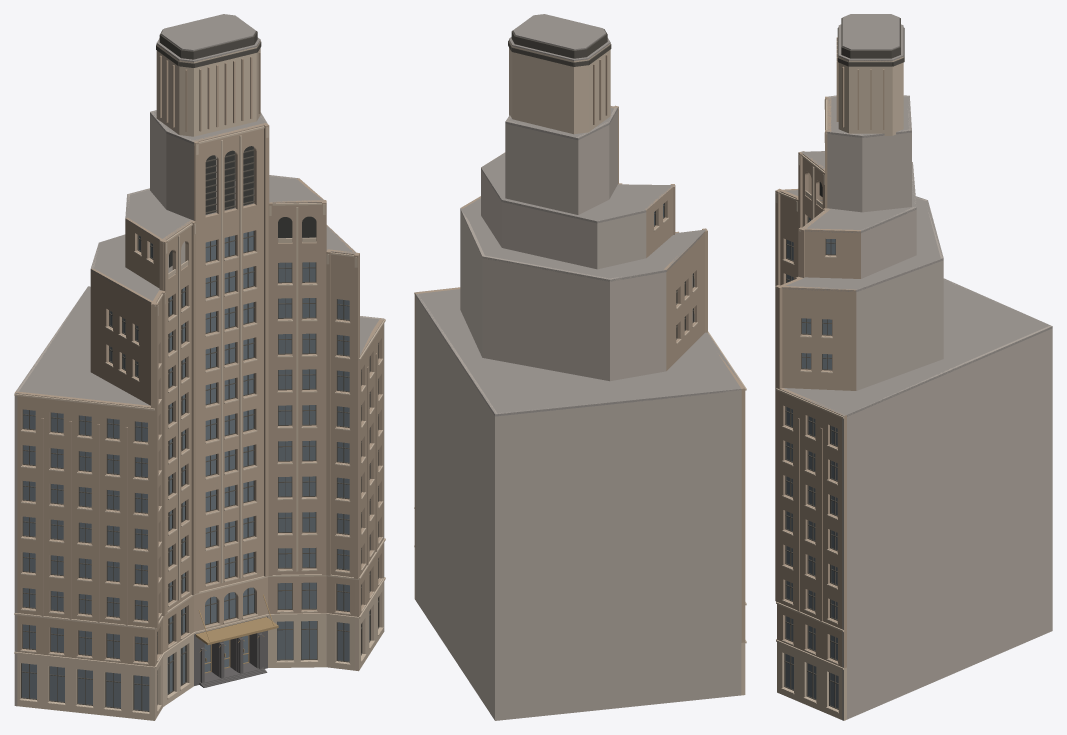
Rendered from huangpu-metropole-hotel-raw.glb.
3 renders of one model, left to right at view 1: azimuth 30°, elevation 25°; view 2: azimuth 150°, elevation 25°; view 3: azimuth 270°, elevation 25°, orthographic. The views are drawn at different scales.
Parts seen in each view (by area): view 1: 都城饭店（江西中路180号转角主楼）; view 2: 都城饭店（江西中路180号转角主楼）; view 3: 都城饭店（江西中路180号转角主楼）.
Part boxes in pixels (x1,y1,x2,y2): 都城饭店（江西中路180号转角主楼）: (14, 14, 385, 720); 都城饭店（江西中路180号转角主楼）: (414, 14, 746, 720); 都城饭店（江西中路180号转角主楼）: (775, 14, 1052, 720).
Size of the model in its own units: 38.47 by 65 by 26.68.
